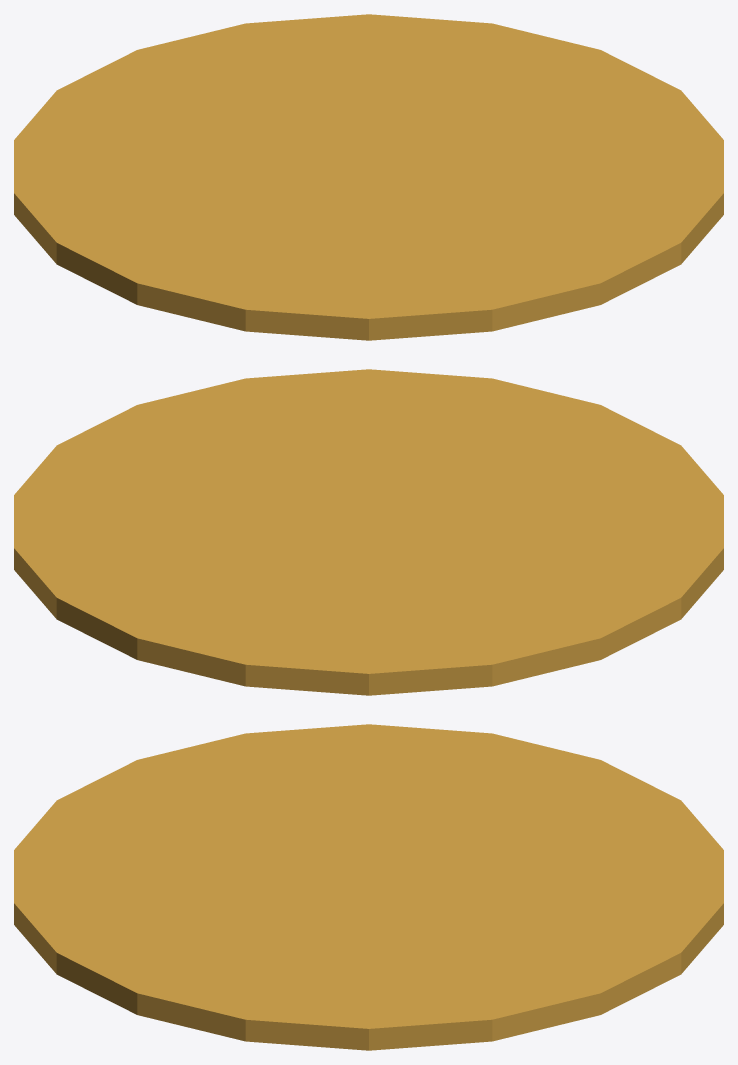
The model's file is 154_L109_TestPadGroup_02.fbx.
3 renders of one model, top to bottom at view 1: azimuth 30°, elevation 25°; view 2: azimuth 150°, elevation 25°; view 3: azimuth 270°, elevation 25°, orthographic.
Visible parts, largest first — view 1: L109_TestPadGroup_02_GOLD; view 2: L109_TestPadGroup_02_GOLD; view 3: L109_TestPadGroup_02_GOLD.
Part boxes in pixels (x1,y1,x2,y2): L109_TestPadGroup_02_GOLD: (14, 14, 723, 340); L109_TestPadGroup_02_GOLD: (14, 369, 723, 695); L109_TestPadGroup_02_GOLD: (14, 724, 723, 1050).
Size of the model in its own units: 3.6 by 3.55 by 0.12.
